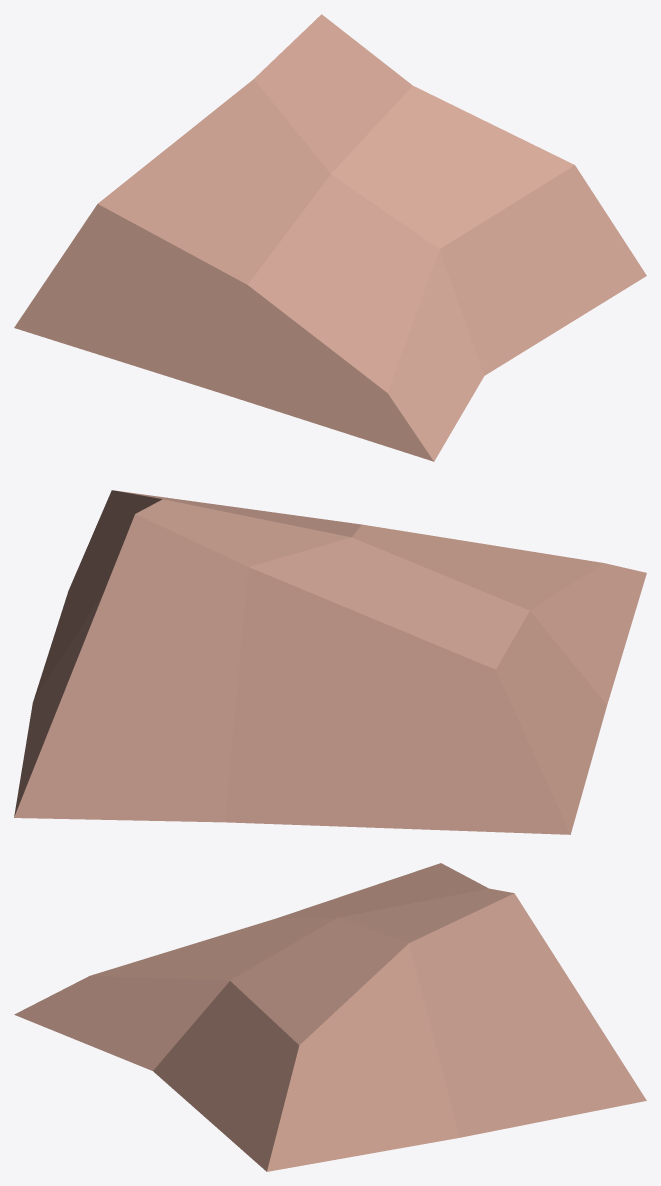
File: Rock_Mesa_Medium_3.fbx
3 views of the same model, one above another, from view 1: azimuth 30°, elevation 25°; view 2: azimuth 150°, elevation 25°; view 3: azimuth 270°, elevation 25° (orthographic). The views are drawn at different scales.
Visible parts, largest first — view 1: Rock; view 2: Rock; view 3: Rock.
Boxes of the visible parts, box(x1,y1,x2,y2) form: Rock: box(14, 14, 646, 461); Rock: box(14, 490, 646, 834); Rock: box(14, 863, 646, 1171).
Bounding box in the file's own units: 99.58 × 37.99 × 112.
